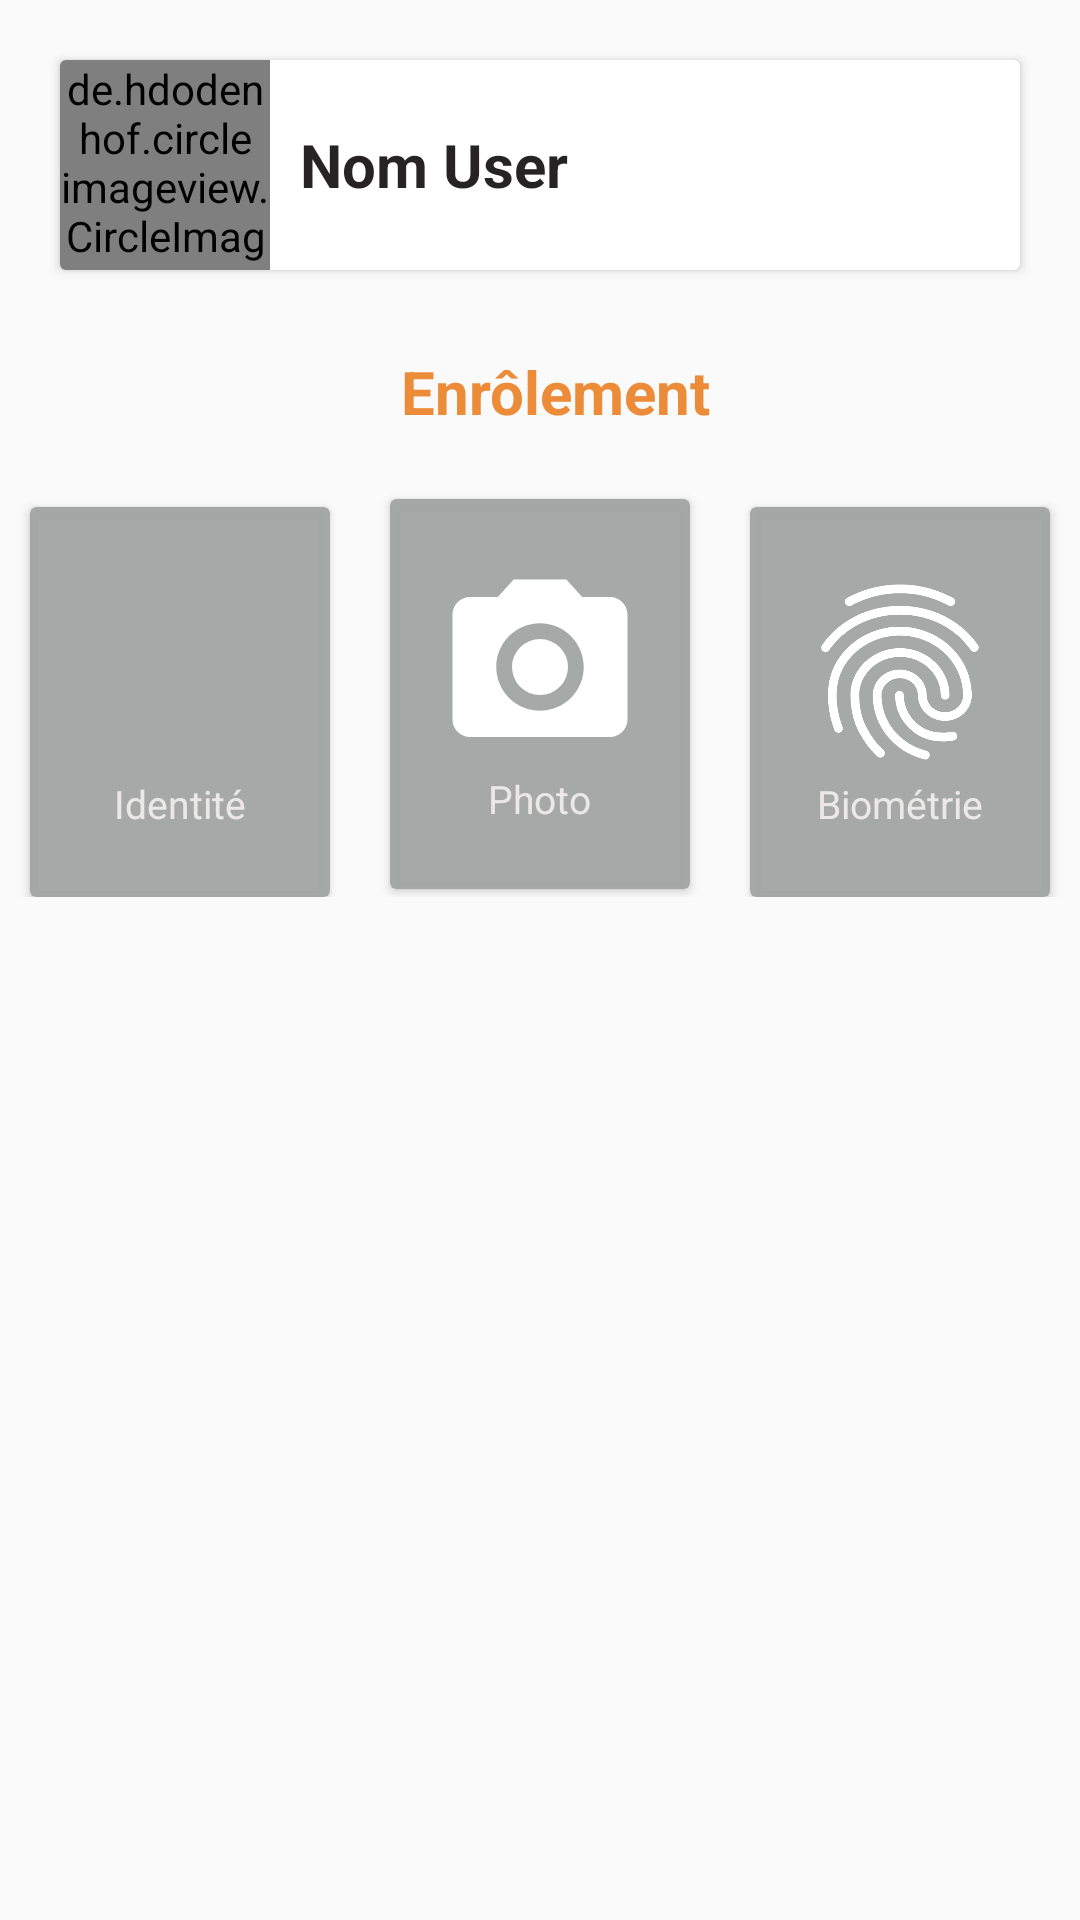

Icon click points for this 1080*1920 phone screenshot, format (x,y):
fingerprint: (900,672)
